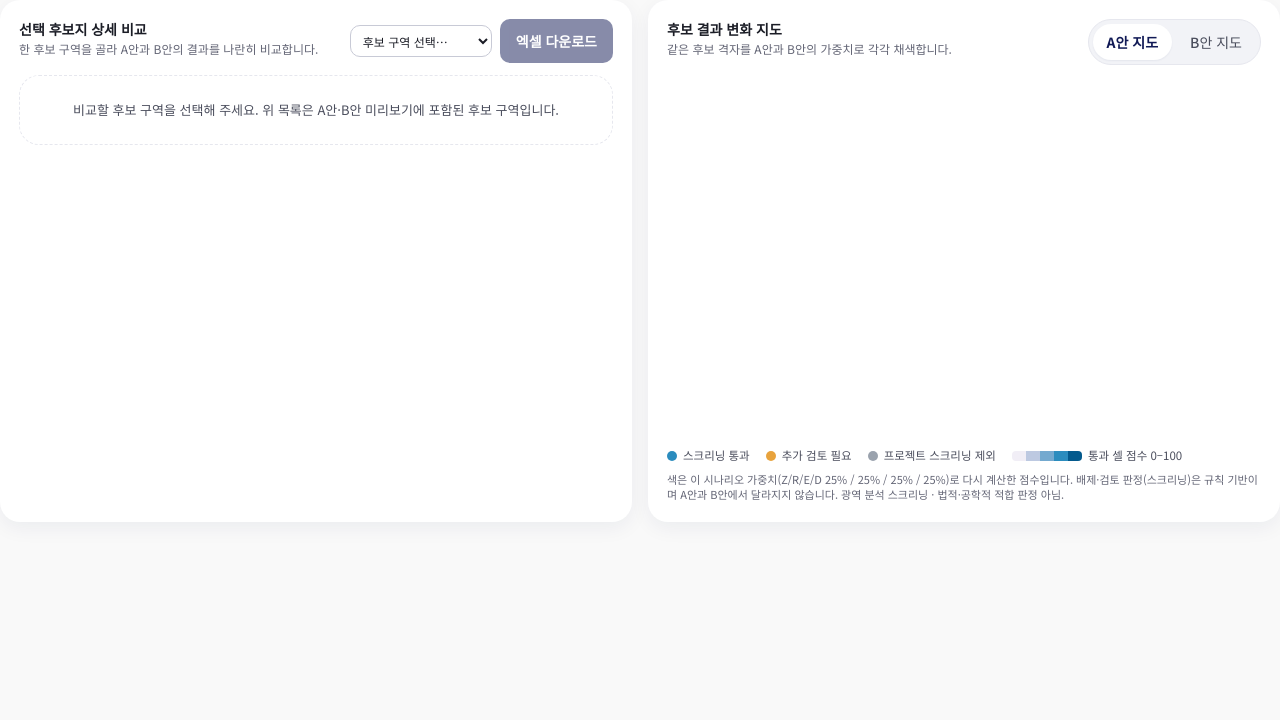
it: candidate selection › keeps candidate_key as the identity shown for the cell
Select "시흥시 · CELL-0011" in the dropdown with test id "scenario-candidate-picker": [421, 41] box [350,25,492,57]
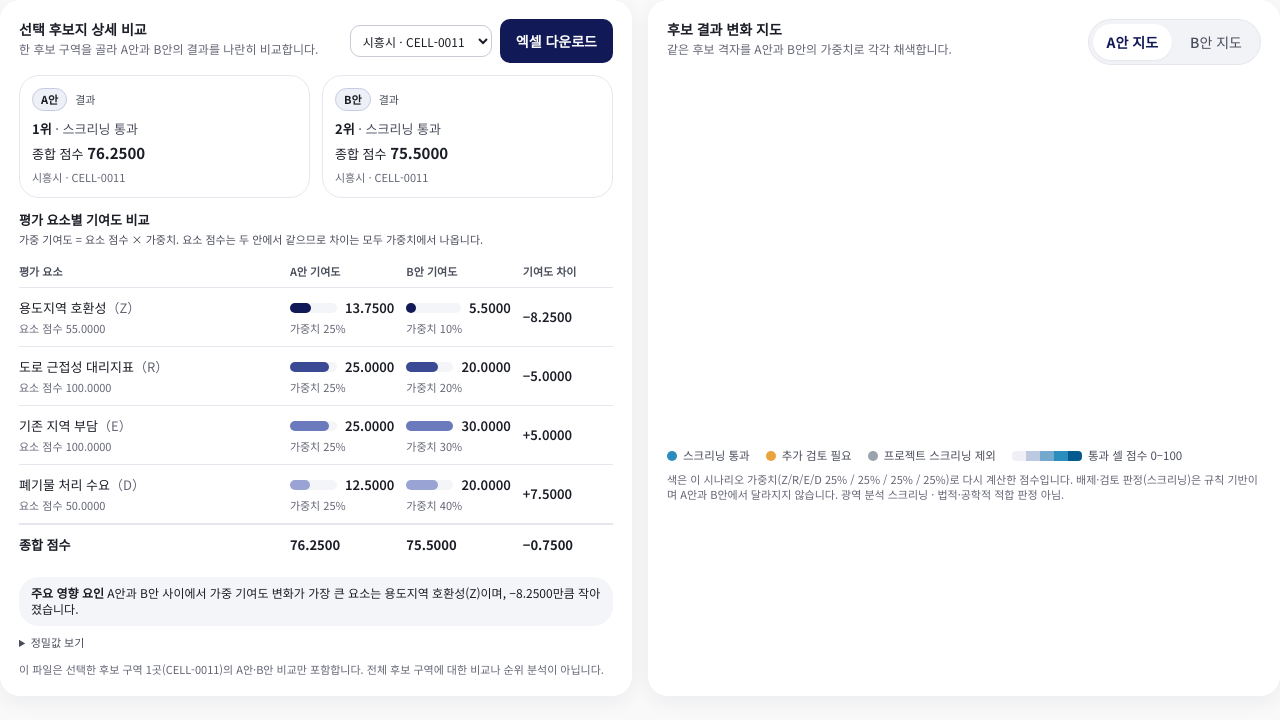
Result: the text with test id "scenario-candidate-side-key" below "1위" shows "CELL-0011" at [32,168,125,184]
